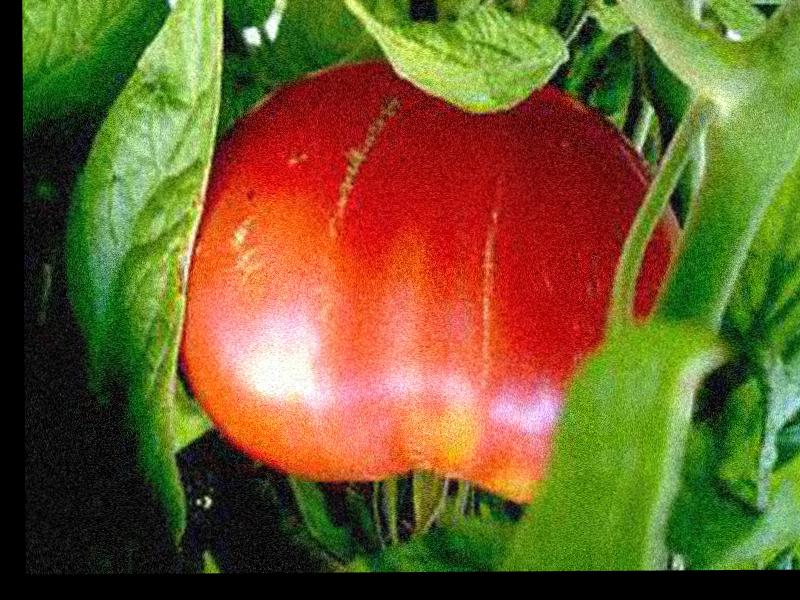Tomato: (173, 60, 680, 507)
